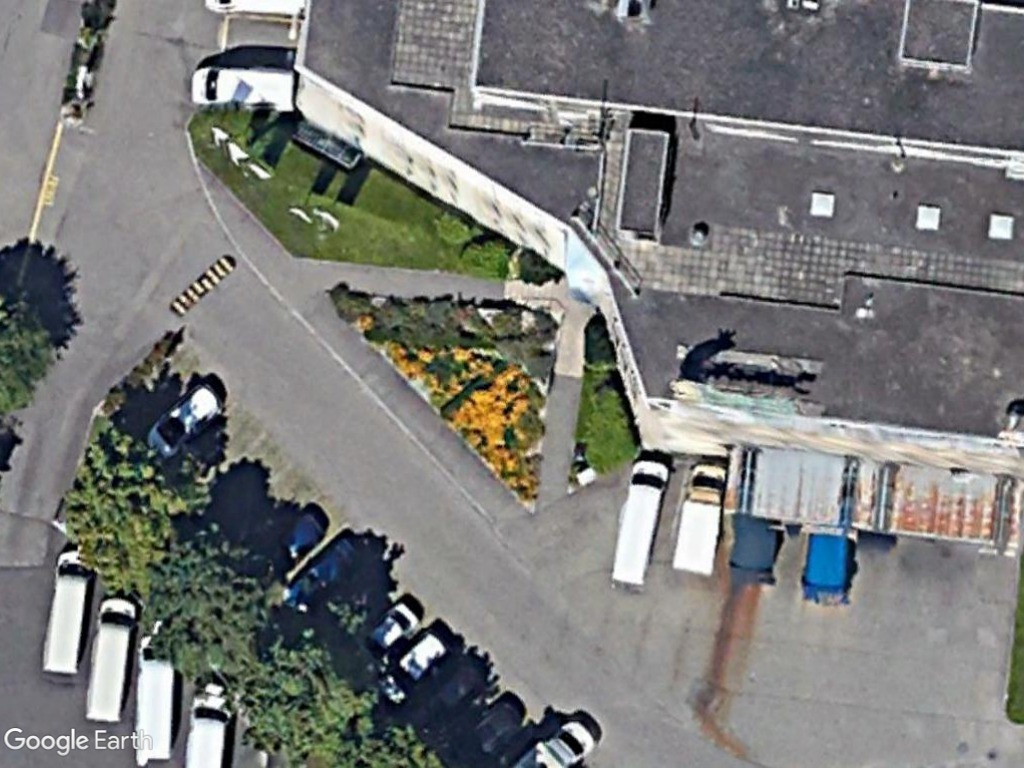truck: (667, 457, 730, 579)
van: (606, 456, 671, 590), (36, 543, 100, 676), (83, 590, 139, 725), (189, 62, 299, 117)
